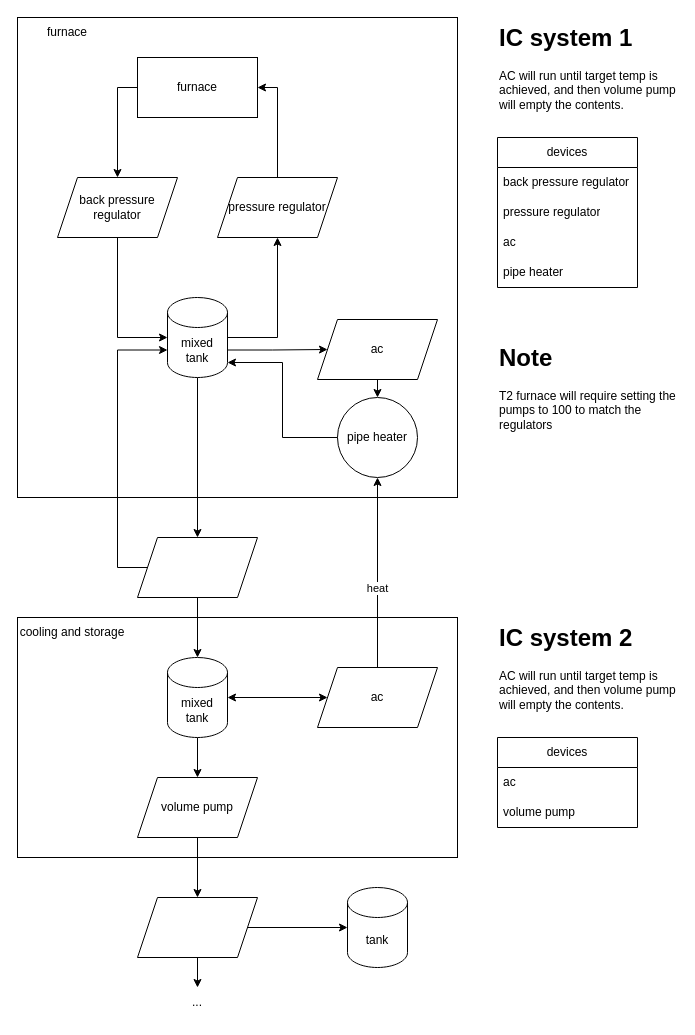
Image size: 695x1035. Some labels were removed from this diagram. Here are the shapes that lost their labels. From the top down, the centre of each, then its label:
At point 197,567: "filter (CO2)".
At point 197,927: "filter".
